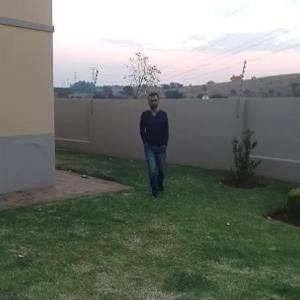follow: (135, 89, 172, 199)
